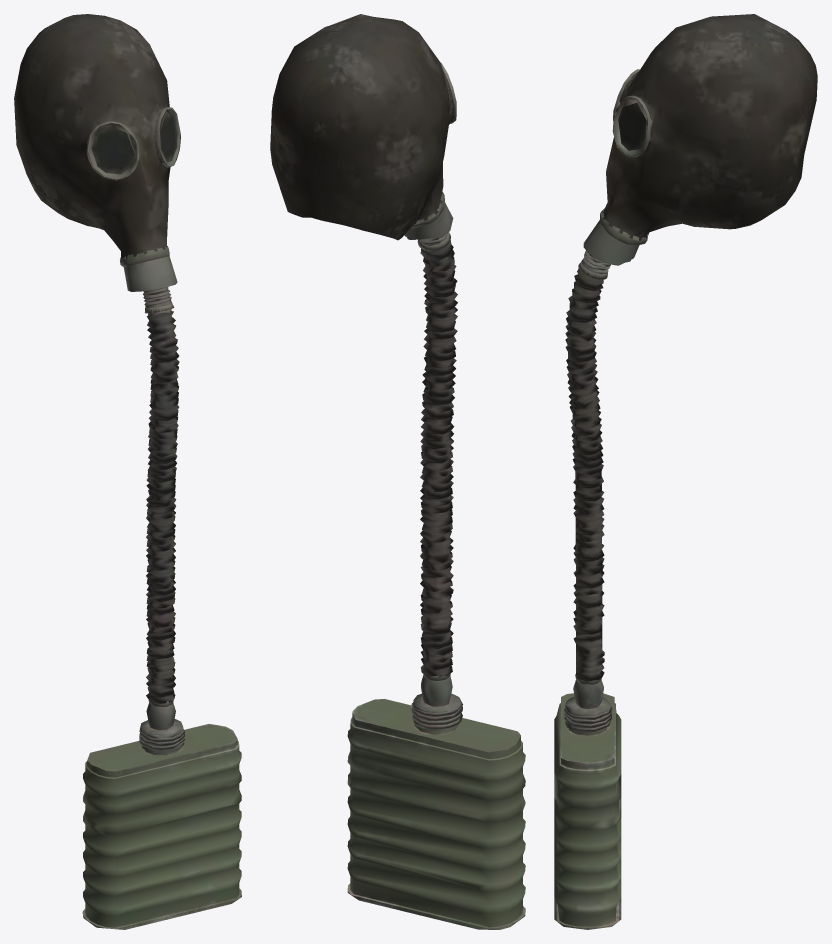
Rendered from wear-gasmask.glb.
The picture shows the model from 3 angles, left to right: view 1: azimuth 30°, elevation 25°; view 2: azimuth 150°, elevation 25°; view 3: azimuth 270°, elevation 25°; orthographic projection. The views are drawn at different scales.
Visible parts, largest first — view 1: old_gas_mask; view 2: old_gas_mask; view 3: old_gas_mask.
Boxes of the visible parts, x1=… form: old_gas_mask: x1=14, y1=14, x2=241, y2=929; old_gas_mask: x1=270, y1=14, x2=525, y2=929; old_gas_mask: x1=554, y1=14, x2=817, y2=929.
Size of the model in its own units: 0.2105 by 1.13 by 0.3087.
1 material, 1 textured.
